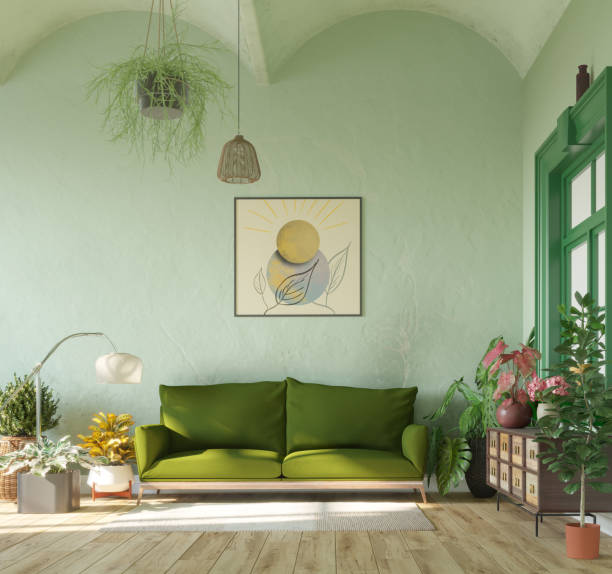floor lamp: (13, 324, 144, 517)
flower vase: (523, 370, 569, 428)
large plant: (556, 291, 612, 561), (431, 374, 497, 502)
small plant: (1, 379, 56, 497), (476, 333, 538, 429), (6, 438, 83, 513), (82, 412, 141, 500)
sofa: (130, 376, 436, 508)
wall art: (232, 192, 365, 320)
